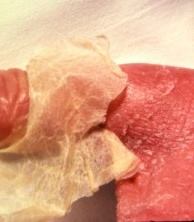SJS-TEN: (0, 27, 186, 222)
